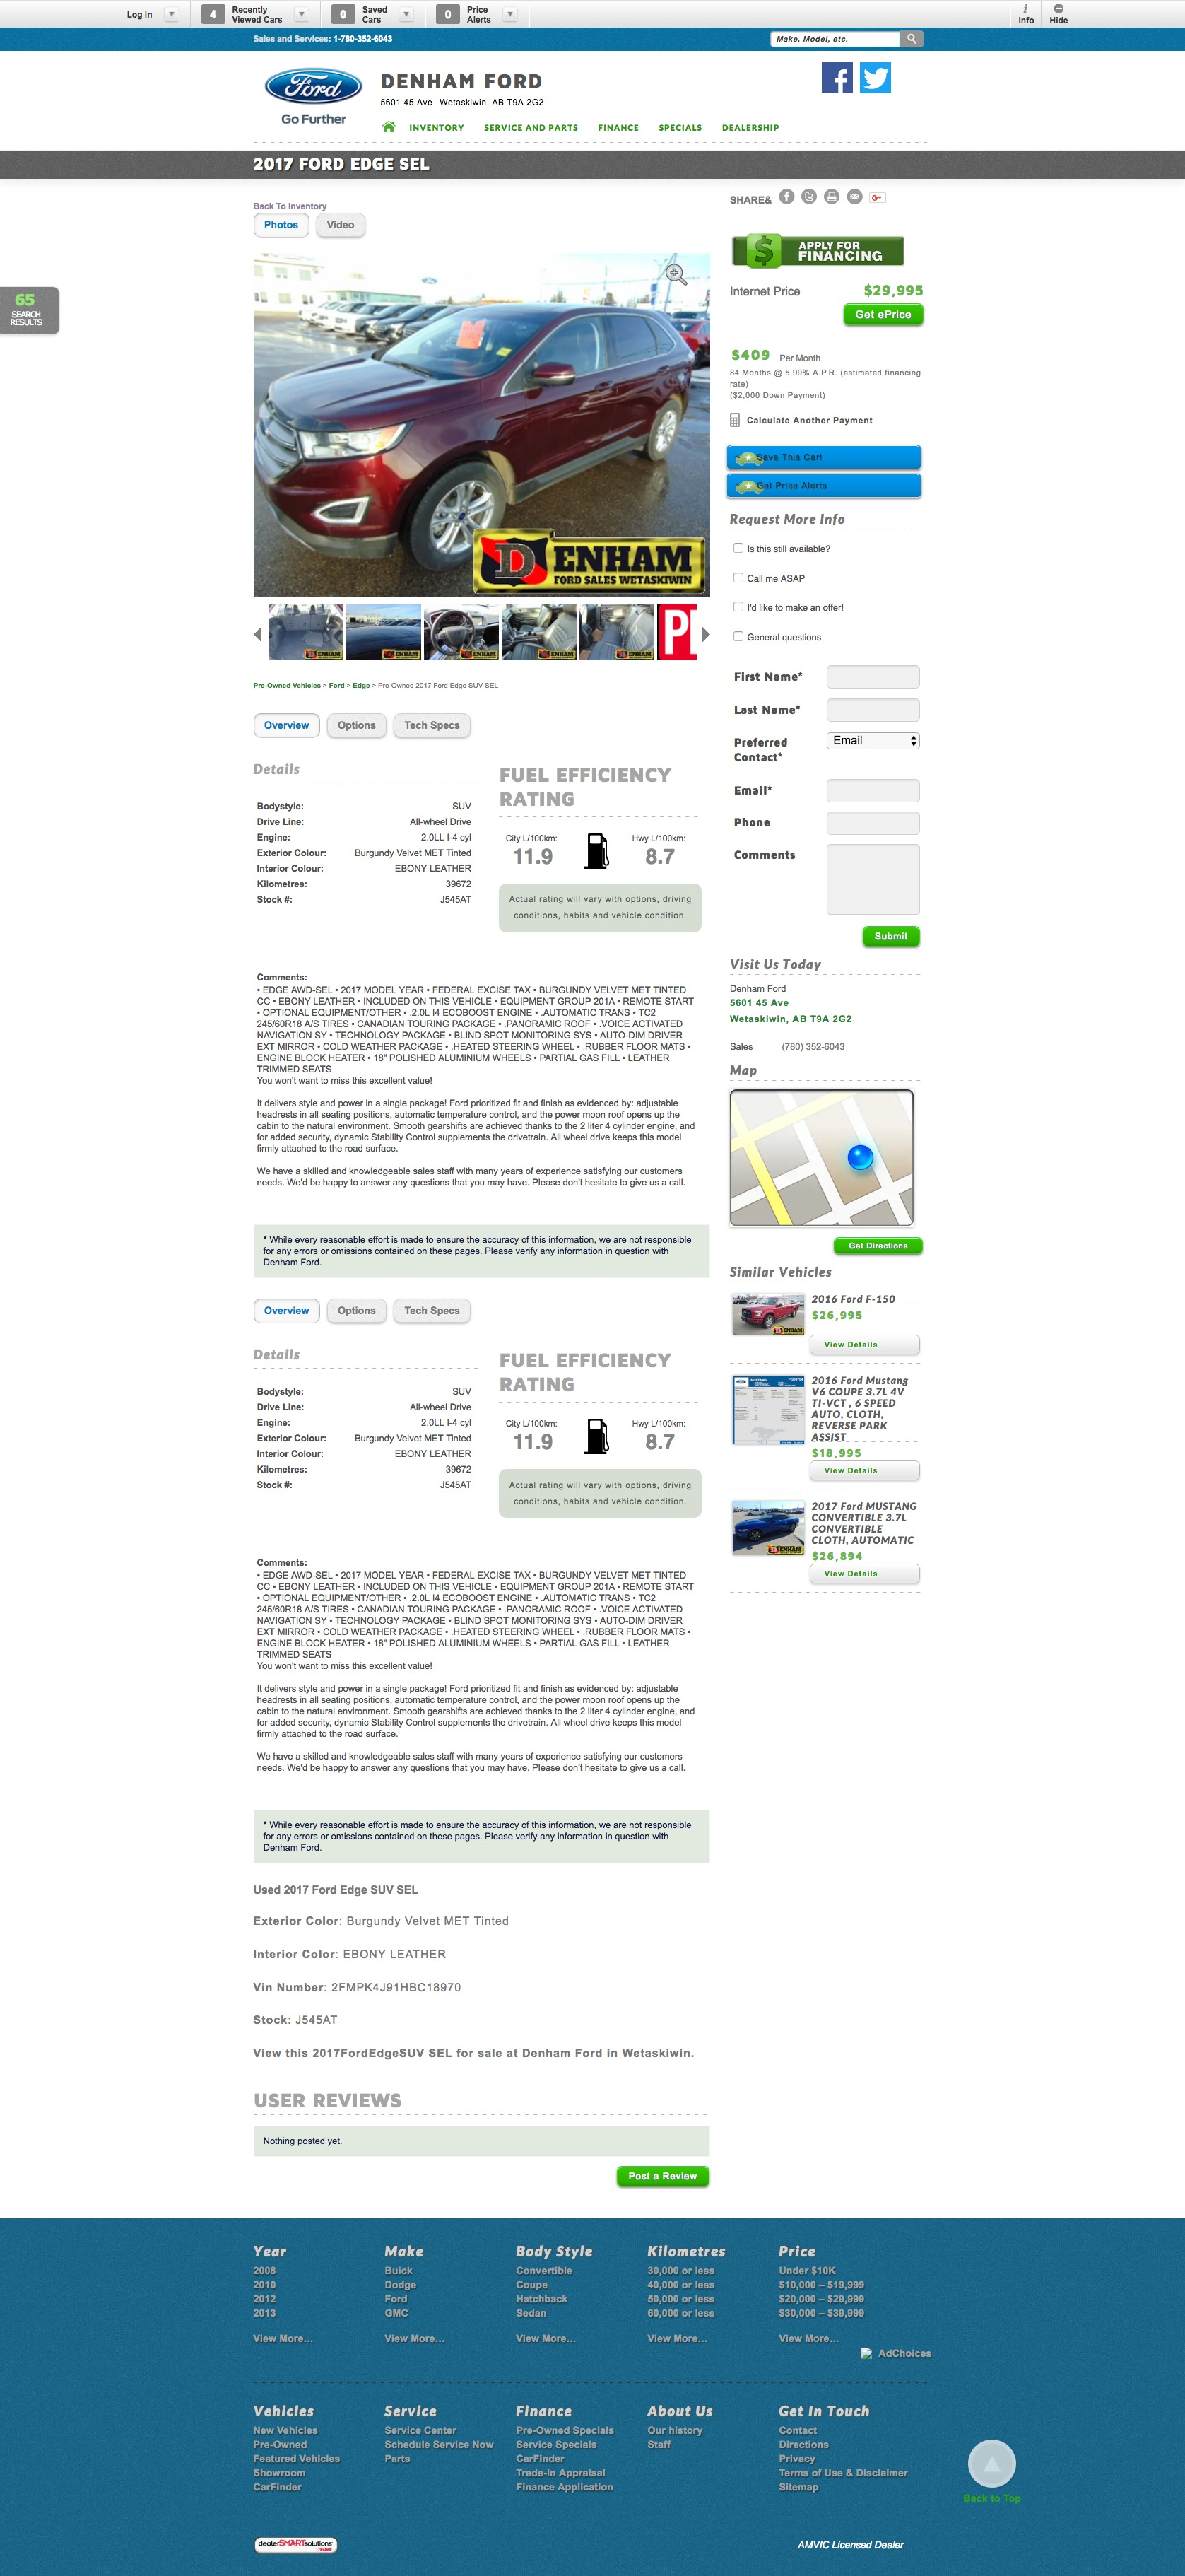car: (701, 626, 712, 642)
